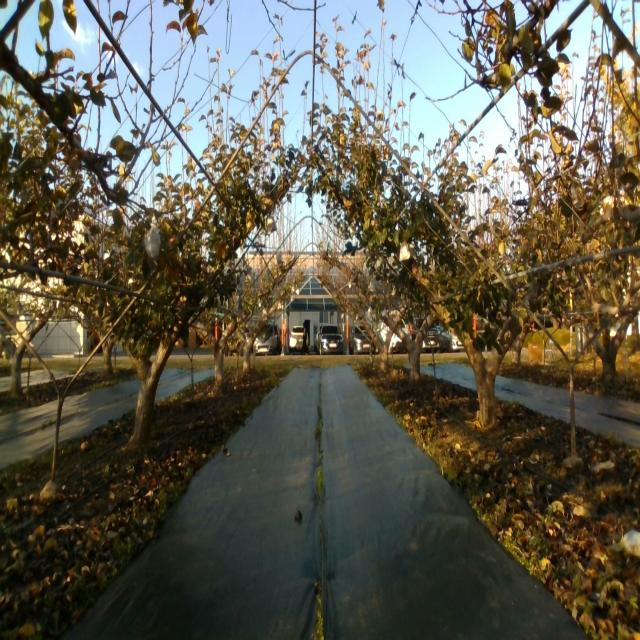pearbags: (144, 224, 160, 259), (399, 241, 411, 263)
